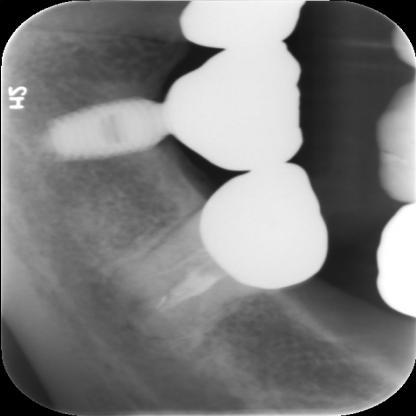Bicon: (30, 81, 166, 171)
